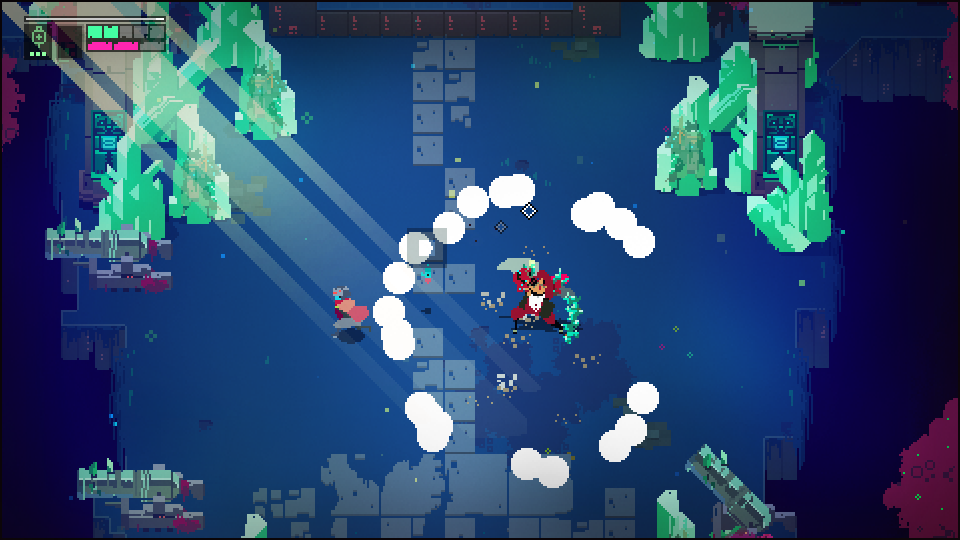hanged_man: (499, 251, 582, 354)
player: (324, 288, 370, 342)
